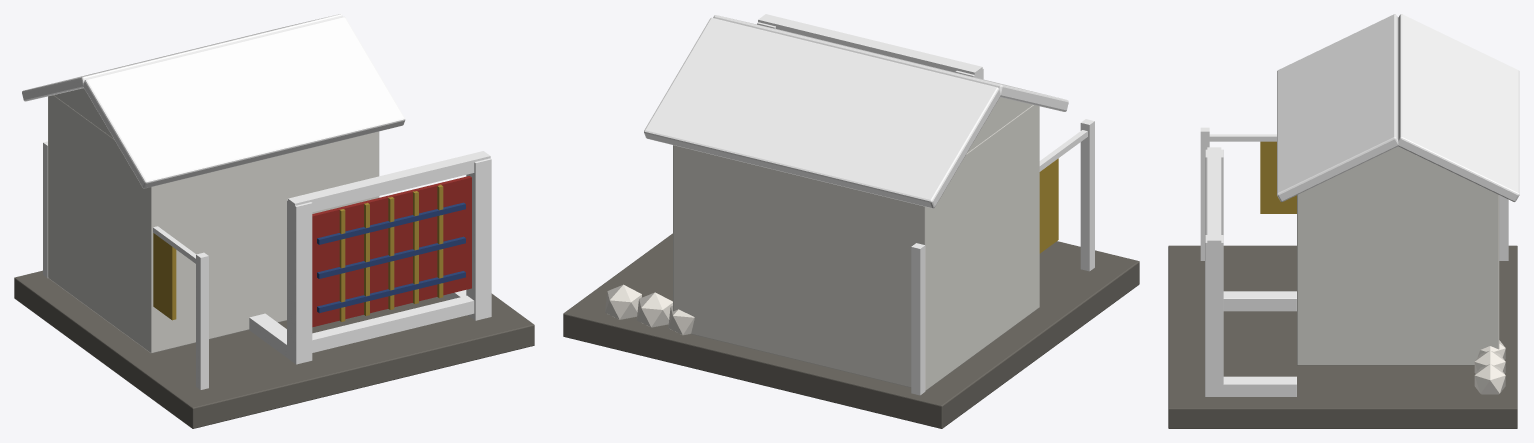
The model's file is dokuma.glb.
3 renders of one model, left to right at view 1: azimuth 30°, elevation 25°; view 2: azimuth 150°, elevation 25°; view 3: azimuth 270°, elevation 25°, orthographic. The views are drawn at different scales.
Parts seen in each view (by area): view 1: Alin; view 2: Alin; view 3: Alin.
Part boxes in pixels (x1=…): Alin: x1=14, y1=14, x2=534, y2=428; Alin: x1=563, y1=14, x2=1139, y2=428; Alin: x1=1168, y1=14, x2=1519, y2=428.
Size of the model in its own units: 1 by 0.7333 by 0.9096.
